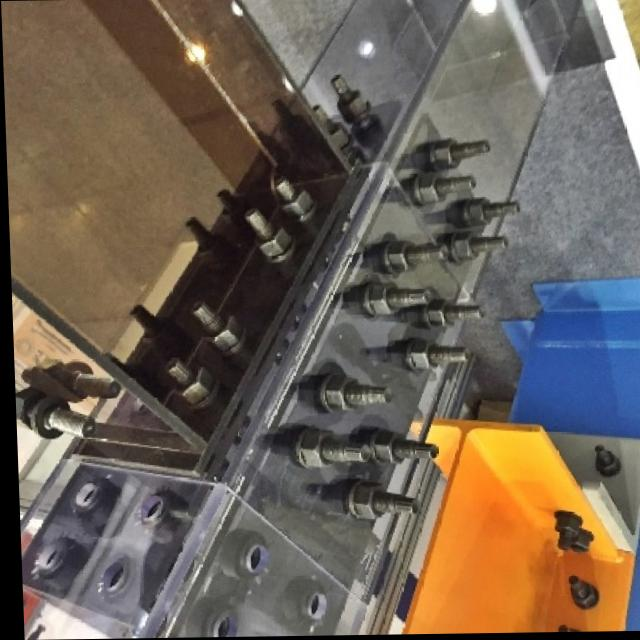Missing bolt: (26, 540, 61, 573), (91, 562, 126, 592), (131, 493, 165, 522), (64, 484, 100, 510), (298, 594, 325, 621), (240, 547, 268, 572), (204, 619, 236, 639)
Regular bolt: (365, 416, 449, 477), (24, 383, 96, 451), (415, 126, 503, 179), (289, 420, 367, 479), (338, 481, 421, 536), (431, 227, 515, 276), (366, 233, 449, 282), (401, 167, 486, 212), (311, 369, 384, 420), (444, 197, 527, 237), (401, 337, 470, 385), (359, 273, 429, 320), (423, 291, 484, 339), (553, 570, 602, 617), (581, 440, 624, 483)
